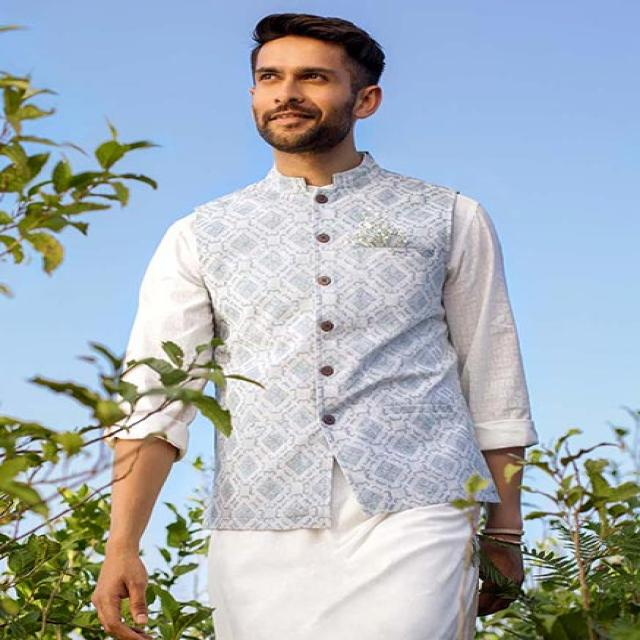human: (92, 12, 538, 640)
